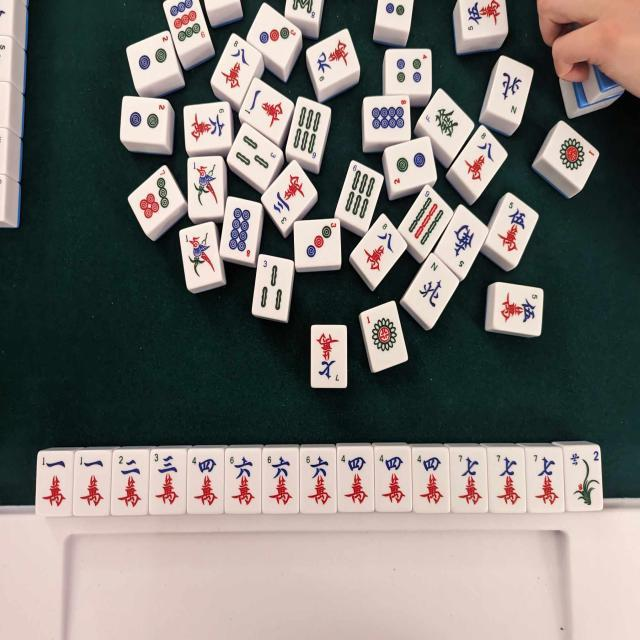bf2: (565, 449, 601, 511)
sc1: (74, 453, 110, 516), (35, 453, 71, 516)
sc2: (115, 454, 151, 516)
sc3: (149, 448, 185, 512)
sc4: (188, 451, 224, 514), (338, 446, 373, 509), (414, 451, 449, 514), (373, 450, 408, 512)
sc6: (223, 448, 260, 512), (264, 448, 300, 511), (304, 452, 338, 514)
sc7: (488, 448, 524, 510), (526, 451, 562, 513), (451, 451, 486, 513)
